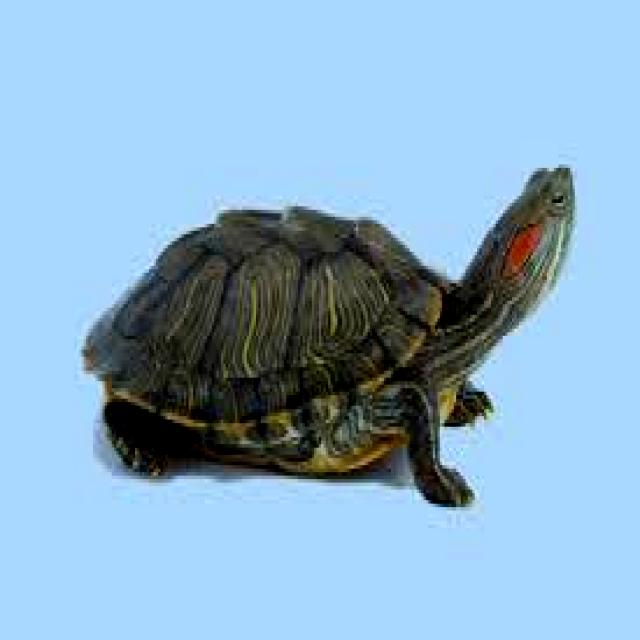Sea turtle: (83, 148, 582, 513)
